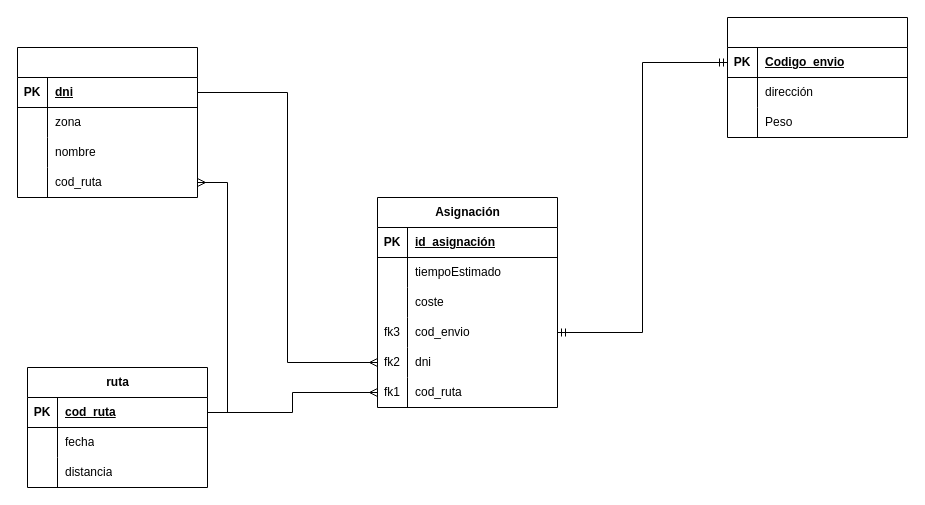
This 925x505 diagram has some shape labels left out. The box of each missing label's shape, as (x1, y1, x2, y2) in pixels:
Envío: (726, 16, 908, 138)
rider: (16, 46, 198, 198)
